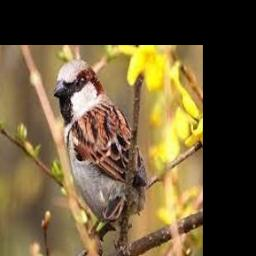Sparrow: (52, 59, 147, 238)
